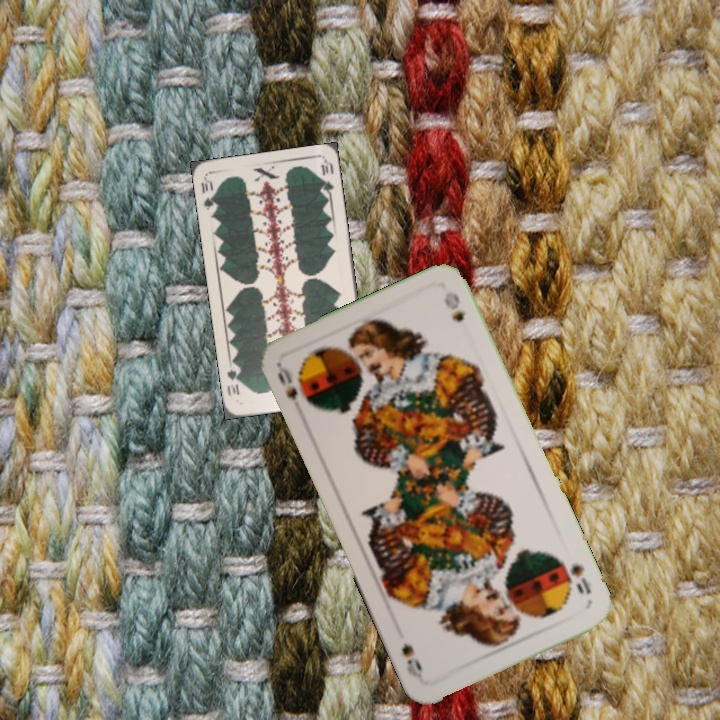G10: (197, 175, 219, 214)
SO: (557, 556, 594, 598), (273, 361, 300, 402)
